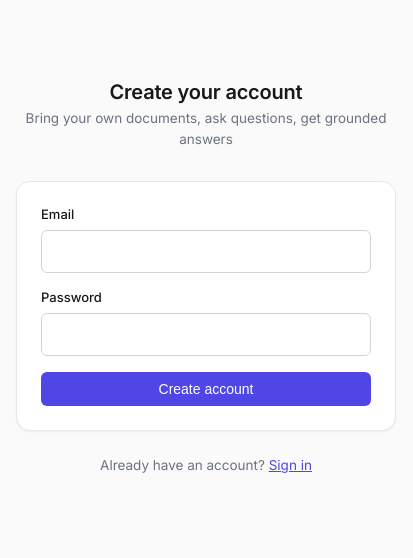
Test: RegisterPage › shows the server error message when registration fails (e.g. email already in use)
In the field labelled "Email": (206, 252) [41,230,371,274], type "user@example.com"
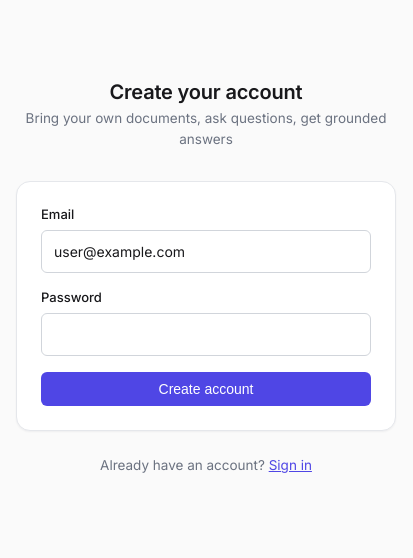
In the password field labelled "Password": (206, 335) [41,314,371,356], type "Str0ngPass!"
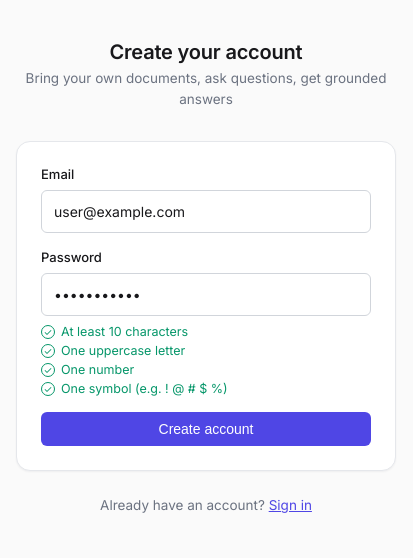
Click the button "Create account": (206, 430) [41,412,371,446]
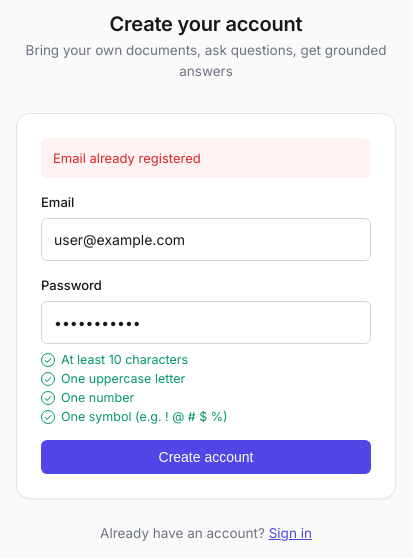
Expected: the text "Email already registered" is shown, [41,138,371,178]
